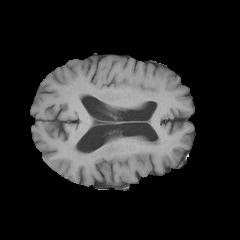glioma: (73, 126, 167, 174)
